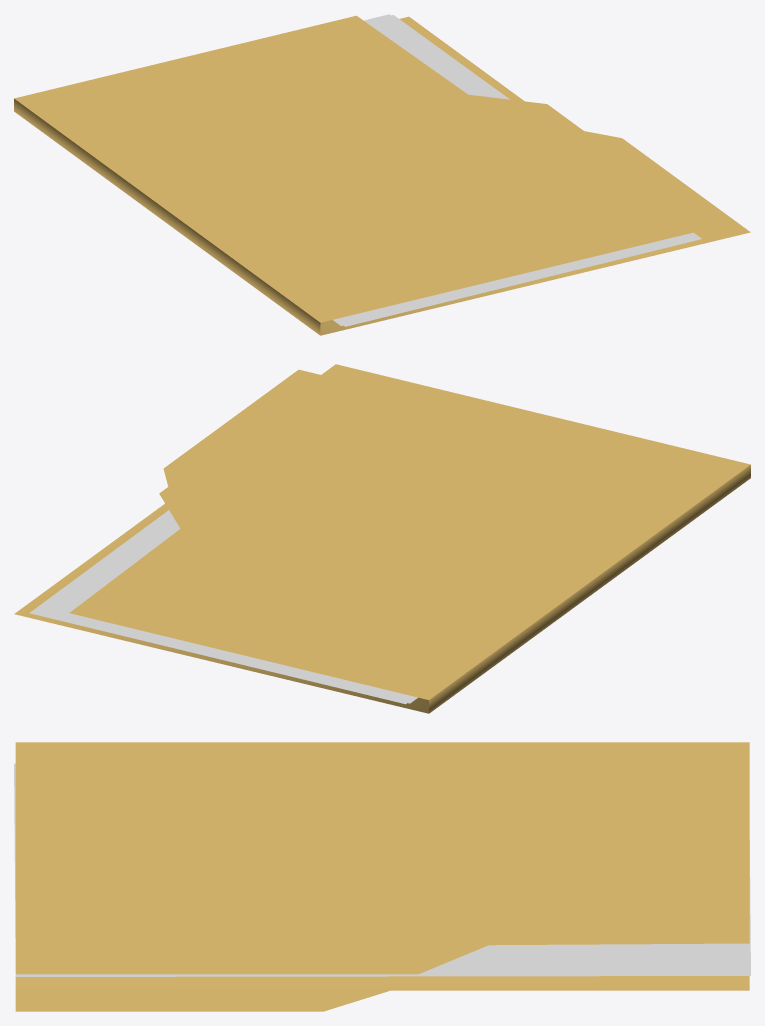
File: folder_template.glb
The picture shows the model from 3 angles, top to bottom: view 1: azimuth 30°, elevation 25°; view 2: azimuth 150°, elevation 25°; view 3: azimuth 270°, elevation 25°; orthographic projection. The views are drawn at different scales.
Visible parts, largest first — view 1: frontSide, backSide, ContentPaper.001, ContentPaper; view 2: frontSide, backSide, ContentPaper.001, ContentPaper; view 3: frontSide, backSide, ContentPaper.001, ContentPaper.
Boxes of the visible parts, x1,y1,x2,y2 form: frontSide: (14,15,714,322); backSide: (14,16,750,335); ContentPaper.001: (333,14,697,325); ContentPaper: (344,15,701,326); frontSide: (69,364,750,699); backSide: (14,369,750,713); ContentPaper.001: (33,512,417,703); ContentPaper: (29,510,406,704); frontSide: (15,742,749,974); backSide: (15,976,749,1011); ContentPaper.001: (14,763,750,971); ContentPaper: (14,783,750,976).
Bounding box in the file's own units: 1.06 × 0.0346 × 1.32.
